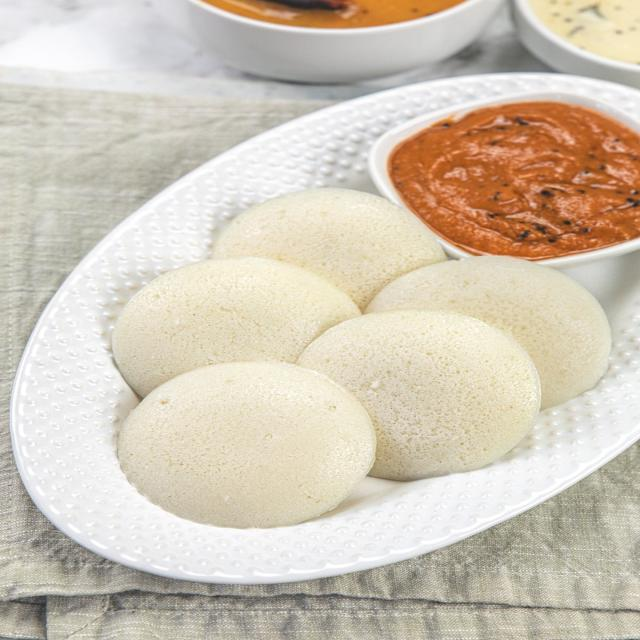idli: (125, 357, 378, 531), (298, 310, 541, 479), (368, 258, 614, 404), (112, 248, 326, 409), (217, 196, 439, 299)
